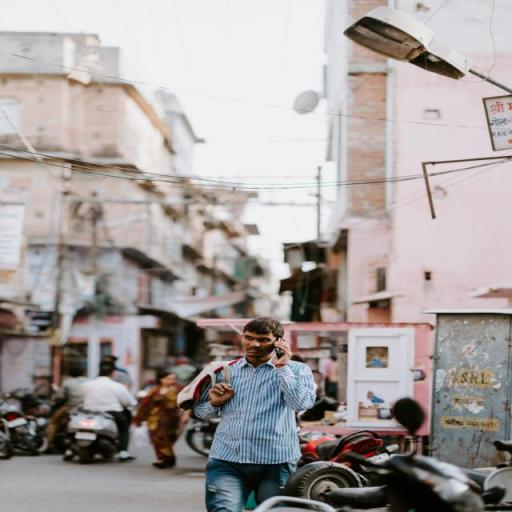Persona: (190, 318, 316, 512)
